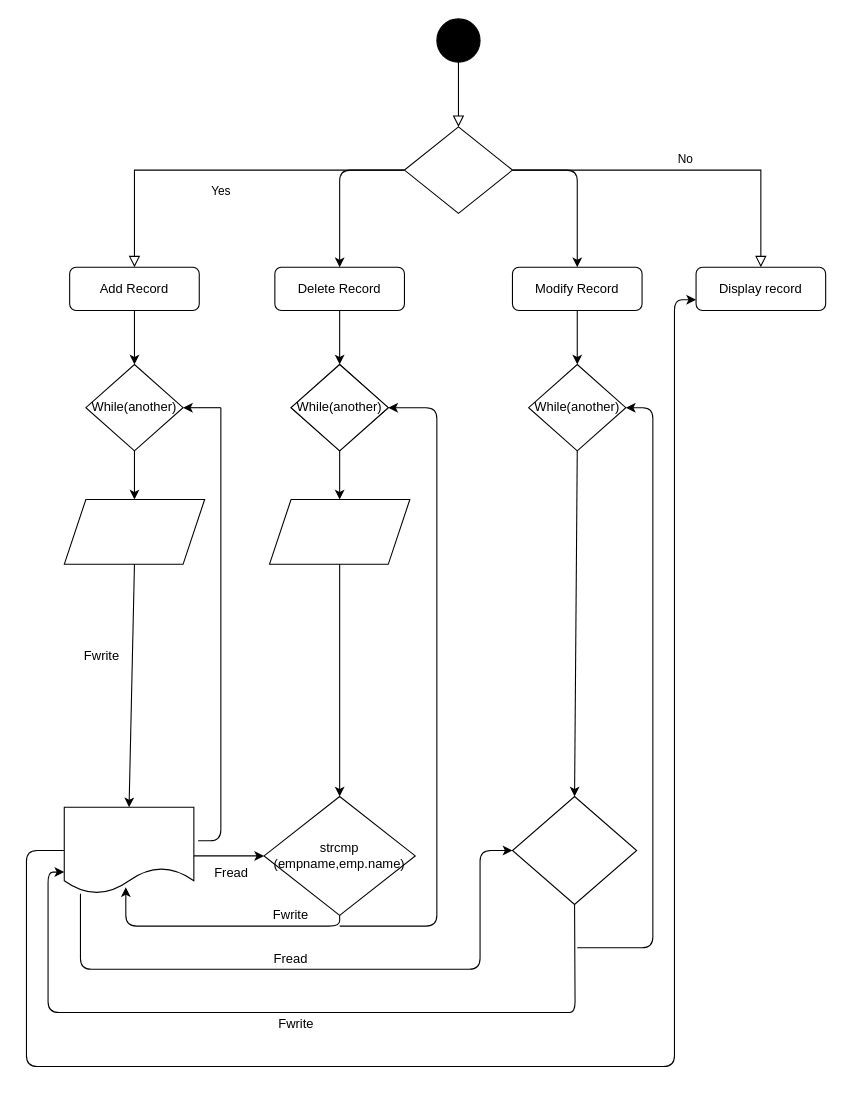
Some shapes in this 845 by 1094 pixel diagram are drawn without their labels. The shapes that lost their labels are listed below. From the top down, each one's centre as x and y in pixels, then its label:
the point at 457,169: Choice
the point at 134,531: Enter name,age,salary,ID
the point at 339,531: Enter empname
the point at 128,850: FILE
the point at 574,850: strcmp (empname,ename)
